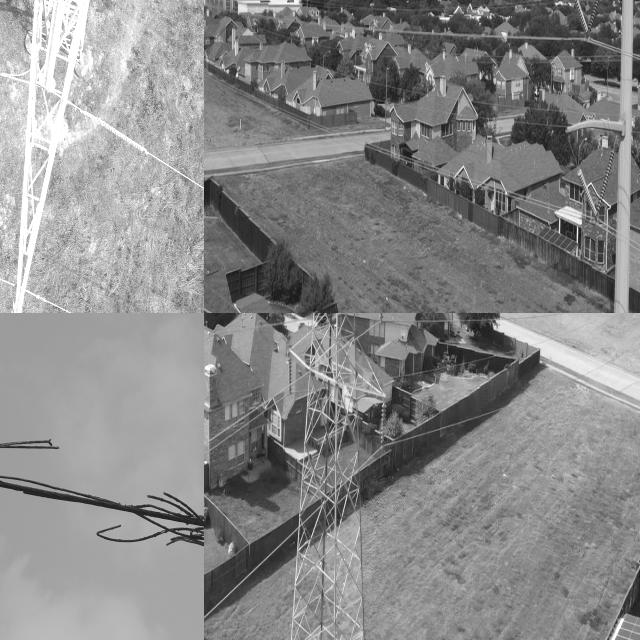杆塔: (287, 313, 366, 640), (14, 0, 91, 313)
正常绝缘子: (581, 0, 602, 53), (572, 0, 594, 42), (378, 395, 387, 451), (285, 351, 293, 397)
电缆破损: (0, 383, 204, 604)
